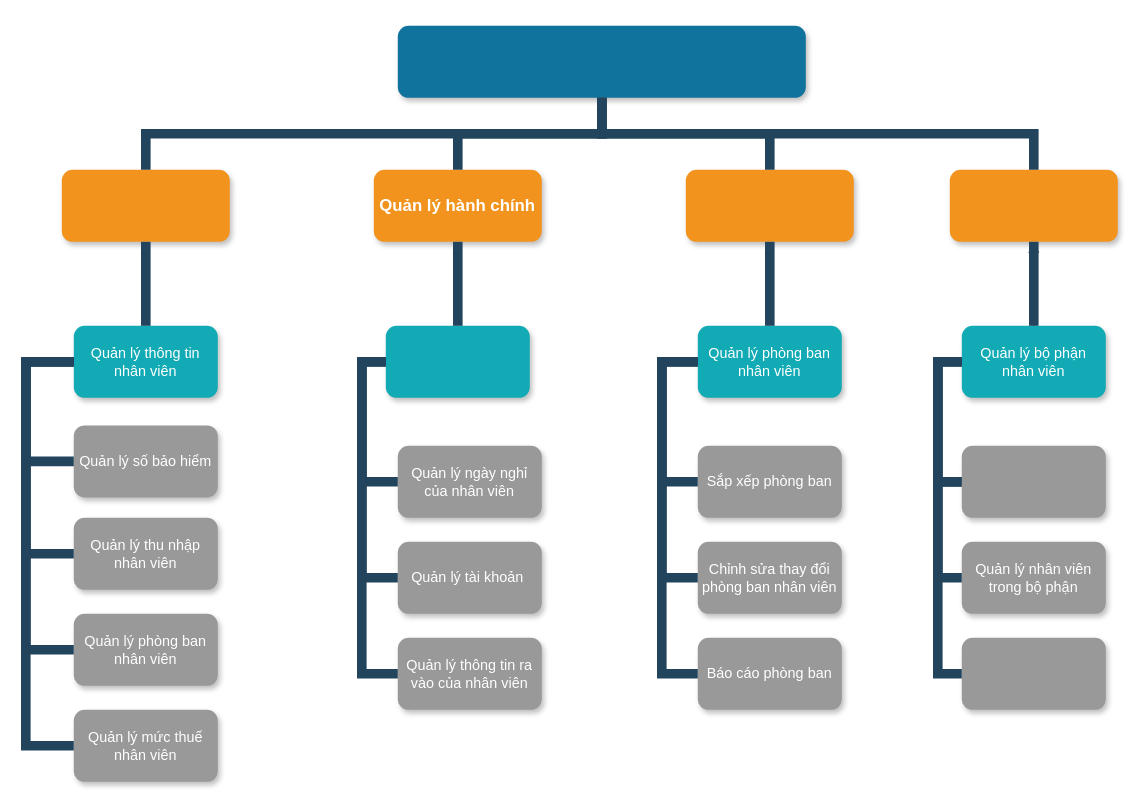
This 1145x810 diagram has some shape labels left out. Each missing label, with the centre of its shape:
"Báo cáo bộ phận" belongs at point 1034,675.
"Chỉnh sửa thay đổi bộ phận nhân viên" belongs at point 1034,483.
"Quản lý bộ phận" belongs at point 1034,207.
"Quản lý nhân viên" belongs at point 146,207.
"Quản lý phòng ban" belongs at point 770,207.
"Quản lý thông tin chấm công" belongs at point 458,363.
"Team 8386" belongs at point 602,63.
